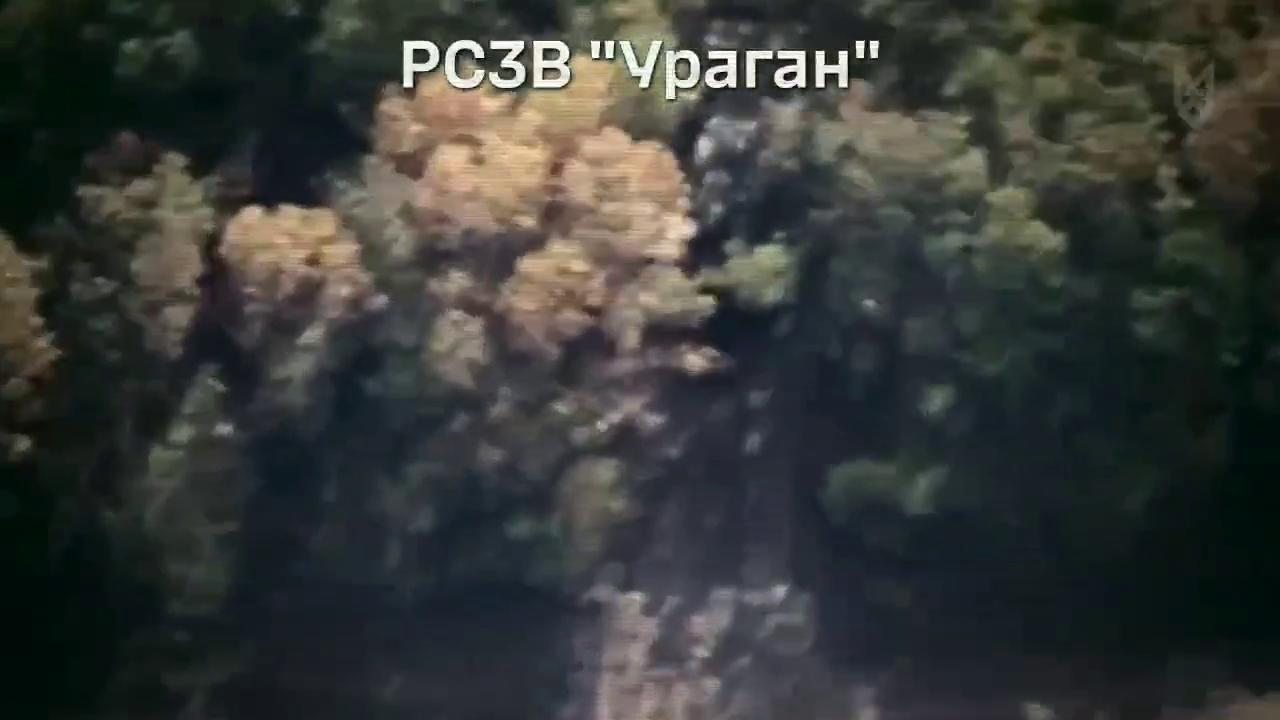tank: (670, 100, 793, 260)
